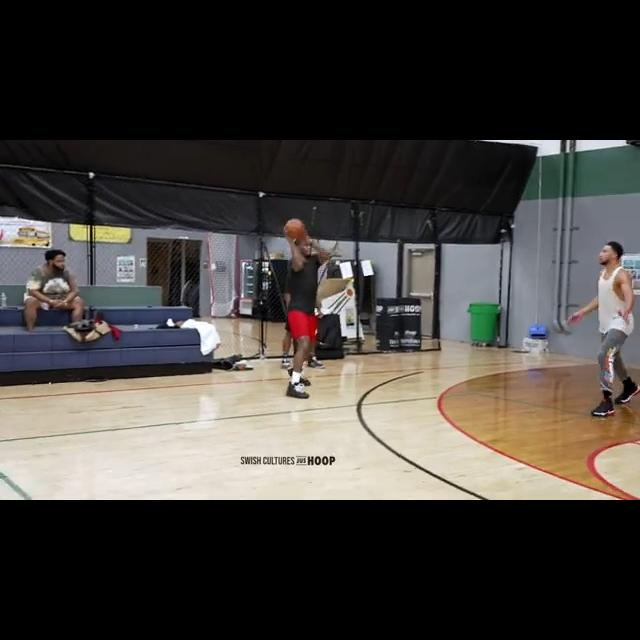basketball: (282, 217, 306, 240)
person: (567, 239, 640, 421), (286, 235, 331, 404), (19, 249, 85, 332), (277, 266, 323, 367)
